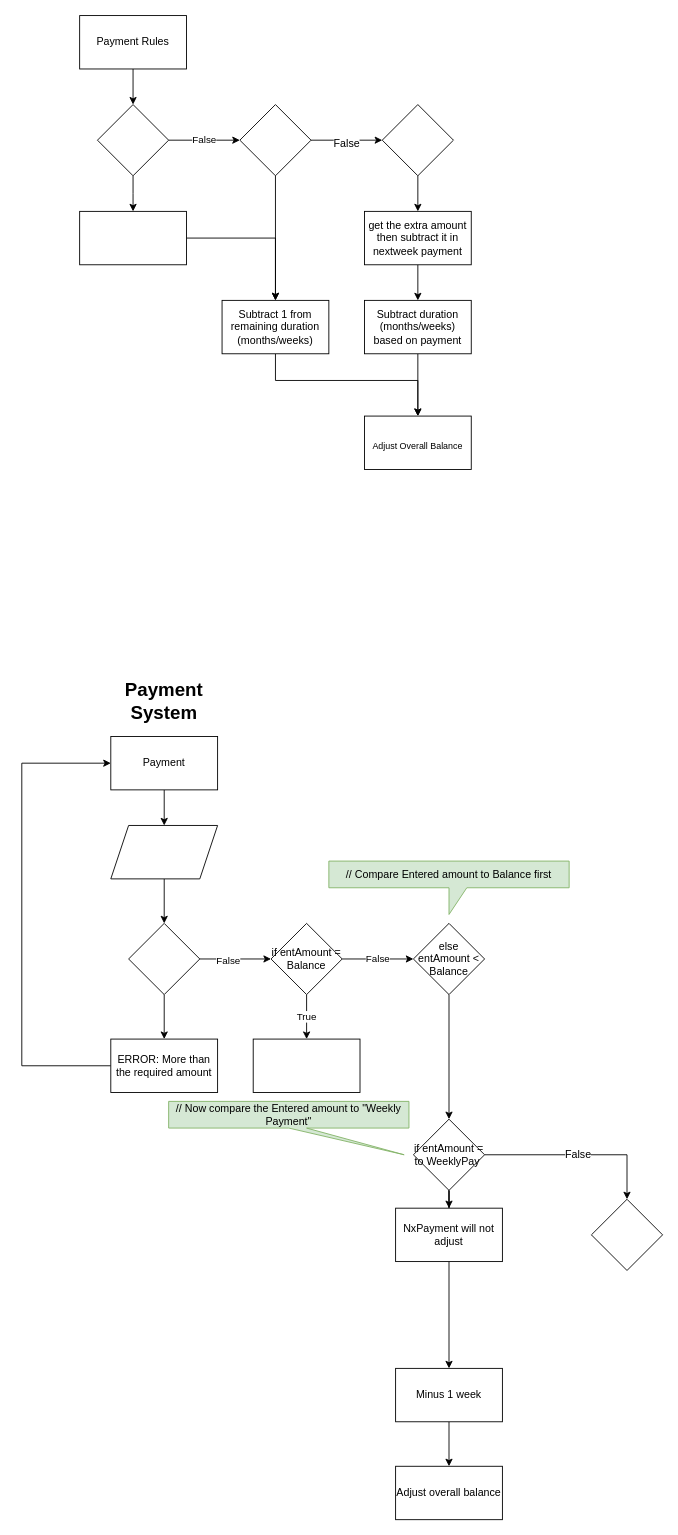
Image size: 678x1535. Some labels were removed from this diagram. Each missing label, with the box of its shape:
get the remaining amount for the week, add to next week with interest: (79, 210, 186, 265)
if amount is equal to pay dswk: (239, 104, 311, 176)
if amount is less than to pay dswk: (97, 104, 169, 176)
if amount is more than to pay dswk: (381, 104, 453, 176)
if entAmount > Balance: (128, 922, 200, 995)
Input payment amount: (110, 825, 218, 879)
Set Balance to 0: (252, 1038, 360, 1092)
